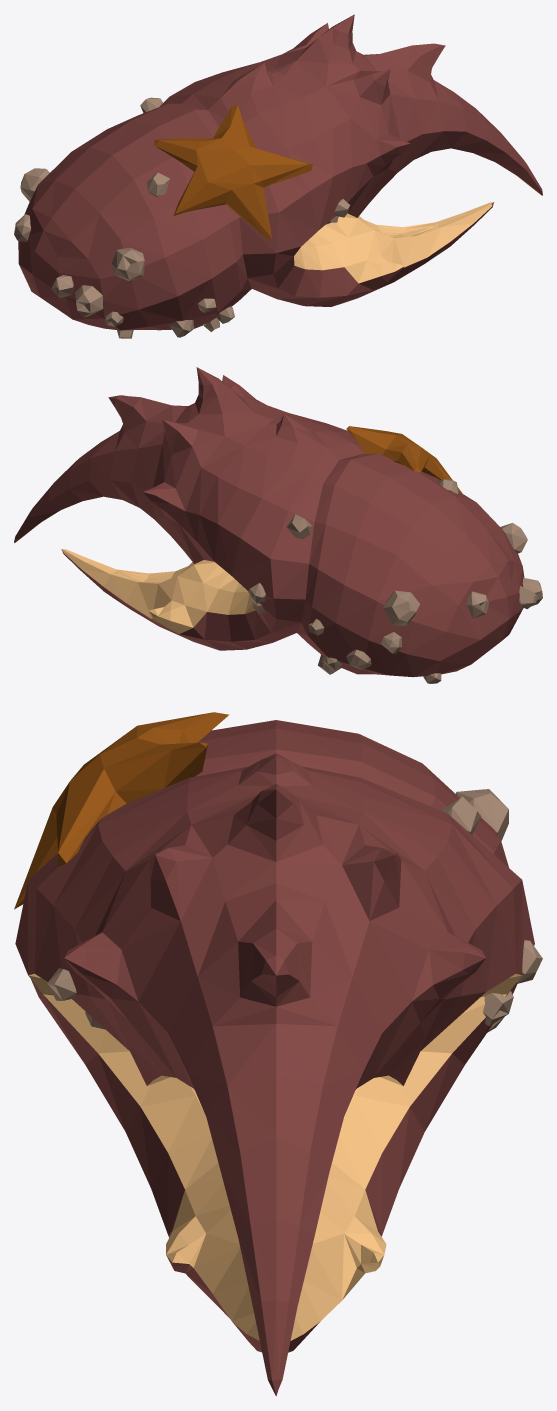
Rendered from Crab_Claw_002.fbx.
3 renders of one model, top to bottom at view 1: azimuth 30°, elevation 25°; view 2: azimuth 150°, elevation 25°; view 3: azimuth 270°, elevation 25°, orthographic. The views are drawn at different scales.
Visible parts, largest first — view 1: Crab_Claw_002; view 2: Crab_Claw_002; view 3: Crab_Claw_002.
Part boxes in pixels (x1,y1,x2,y2): Crab_Claw_002: (14,14,542,338); Crab_Claw_002: (14,367,542,683); Crab_Claw_002: (14,712,542,1396).
Size of the model in its own units: 1.67 by 0.865 by 0.7843.
